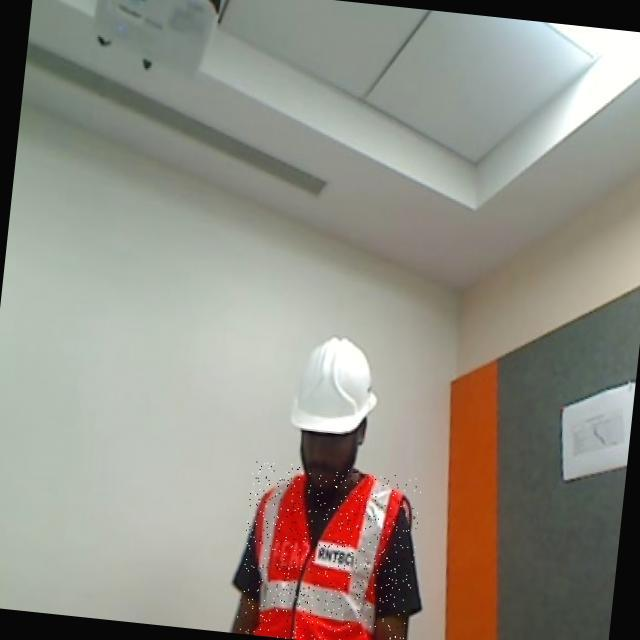helmet: (277, 333, 391, 452)
vest: (235, 459, 422, 640)
